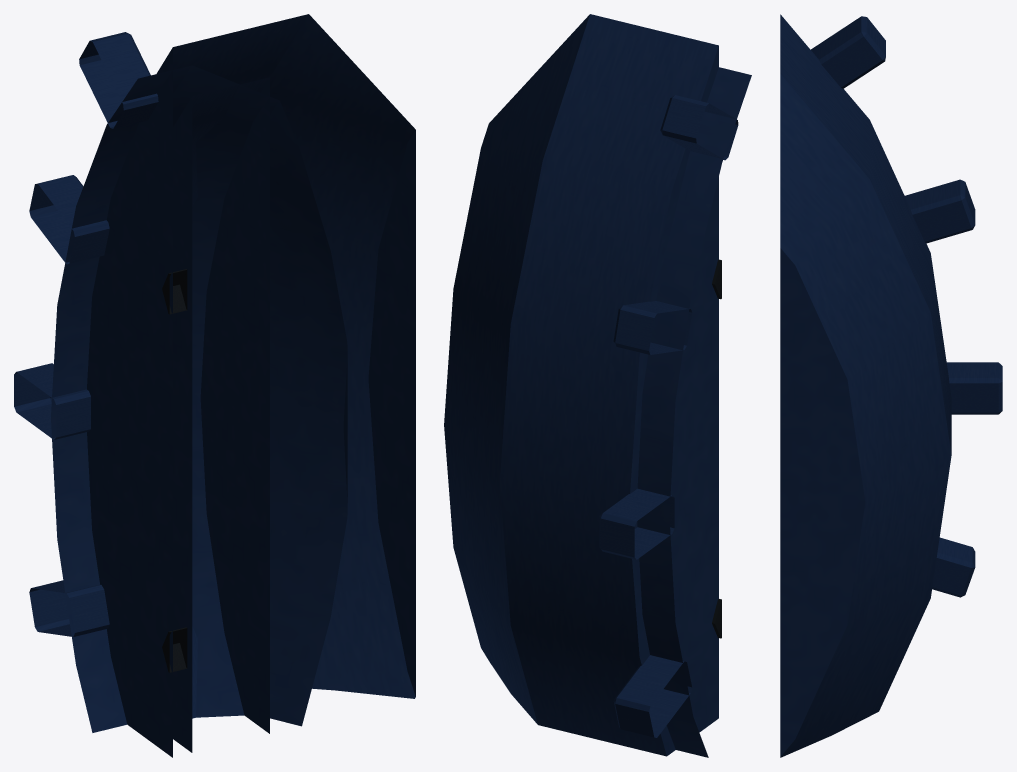
Rendered from cell_23.obj.
3 views of the same model, side by side, from view 1: azimuth 30°, elevation 25°; view 2: azimuth 150°, elevation 25°; view 3: azimuth 270°, elevation 25° (orthographic). The views are drawn at different scales.
Parts seen in each view (by area): view 1: cell_23; view 2: cell_23; view 3: cell_23.
Boxes of the visible parts, x1=… form: cell_23: x1=14, y1=14, x2=415, y2=757; cell_23: x1=444, y1=14, x2=751, y2=757; cell_23: x1=780, y1=14, x2=1002, y2=757.
Bounding box in the file's own units: 0.3288 × 0.8035 × 0.2538.
